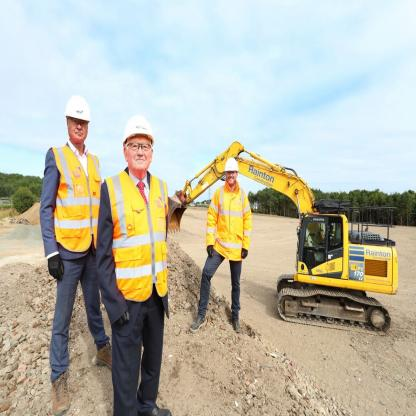excavator: (162, 121, 405, 348)
person: (99, 113, 183, 416), (37, 88, 114, 409), (191, 154, 256, 345)
